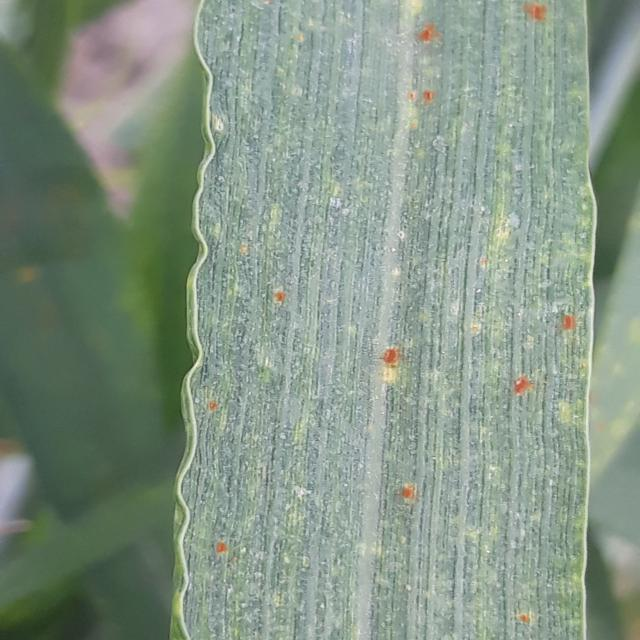orang_rust: (160, 0, 610, 640)
